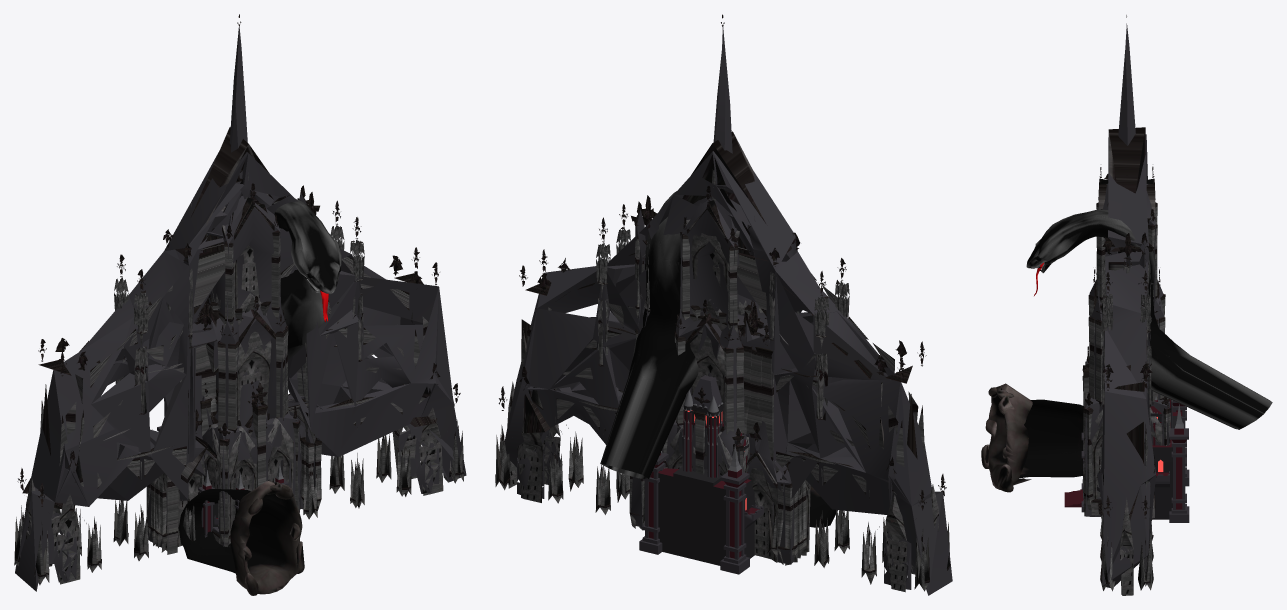
File: fort.glb
3 views of the same model, side by side, from view 1: azimuth 30°, elevation 25°; view 2: azimuth 150°, elevation 25°; view 3: azimuth 270°, elevation 25° (orthographic). The views are drawn at different scales.
Parts seen in each view (by area): view 1: gb_arch_lo, gb_arch, vl_serpent, gb_tower, gb_tower_lo, gb_tier, gb_butt, gb_ruin, gb_ruin_lo, gb_spire_lo, gb_tier_lo, dc_keep (+1 smaller); view 2: gb_arch_lo, gb_arch, vl_serpent, dc_keep, gb_tower, gb_ruin, gb_tower_lo, dc_keep_lo, gb_ruin_lo, gb_tier, gb_spire_lo, gb_butt; view 3: vl_serpent, gb_arch_lo, gb_arch, gb_tower, dc_keep, gb_tower_lo, gb_tier, gb_spire_lo.
Part boxes in pixels (x1,y1,x2,y2): gb_arch_lo: (15,152,466,591); gb_arch: (14,127,463,585); vl_serpent: (178,199,341,595); gb_tower: (200,175,300,545); gb_tower_lo: (202,189,300,546); gb_tier: (199,290,299,546); gb_butt: (155,192,321,552); gb_ruin: (146,185,308,554); gb_ruin_lo: (146,193,322,552); gb_spire_lo: (211,24,267,425); gb_tier_lo: (202,295,300,546); dc_keep: (157,426,288,537); gb_arch_lo: (498,151,952,595); gb_arch: (495,131,950,592); vl_serpent: (600,191,837,527); dc_keep: (639,375,763,574); gb_tower: (663,181,766,475); gb_ruin: (629,201,810,565); gb_tower_lo: (661,191,767,471); dc_keep_lo: (658,378,763,565); gb_ruin_lo: (631,209,806,564); gb_tier: (666,299,752,474); gb_spire_lo: (701,26,732,381); gb_butt: (642,195,806,558); vl_serpent: (981,209,1272,492); gb_arch_lo: (1097,134,1155,587); gb_arch: (1096,127,1156,595); gb_tower: (1083,166,1171,516); dc_keep: (1064,396,1189,522); gb_tower_lo: (1085,171,1169,515); gb_tier: (1082,346,1170,516); gb_spire_lo: (1118,23,1135,145).
Size of the model in its own units: 73.49 by 84.6 by 45.94.
11 materials, 3 textured.
